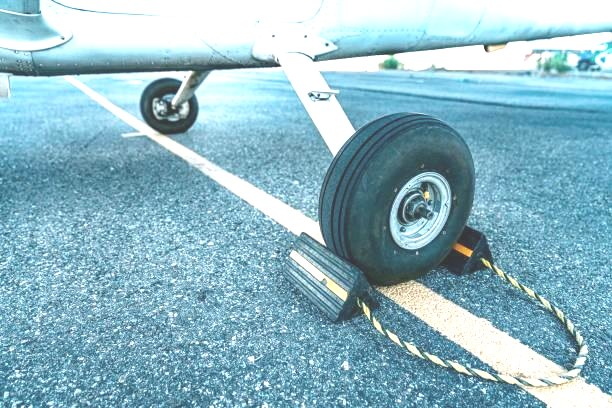chock: (278, 229, 382, 323), (427, 221, 496, 276)
wheel: (317, 112, 477, 286), (137, 75, 198, 135)
